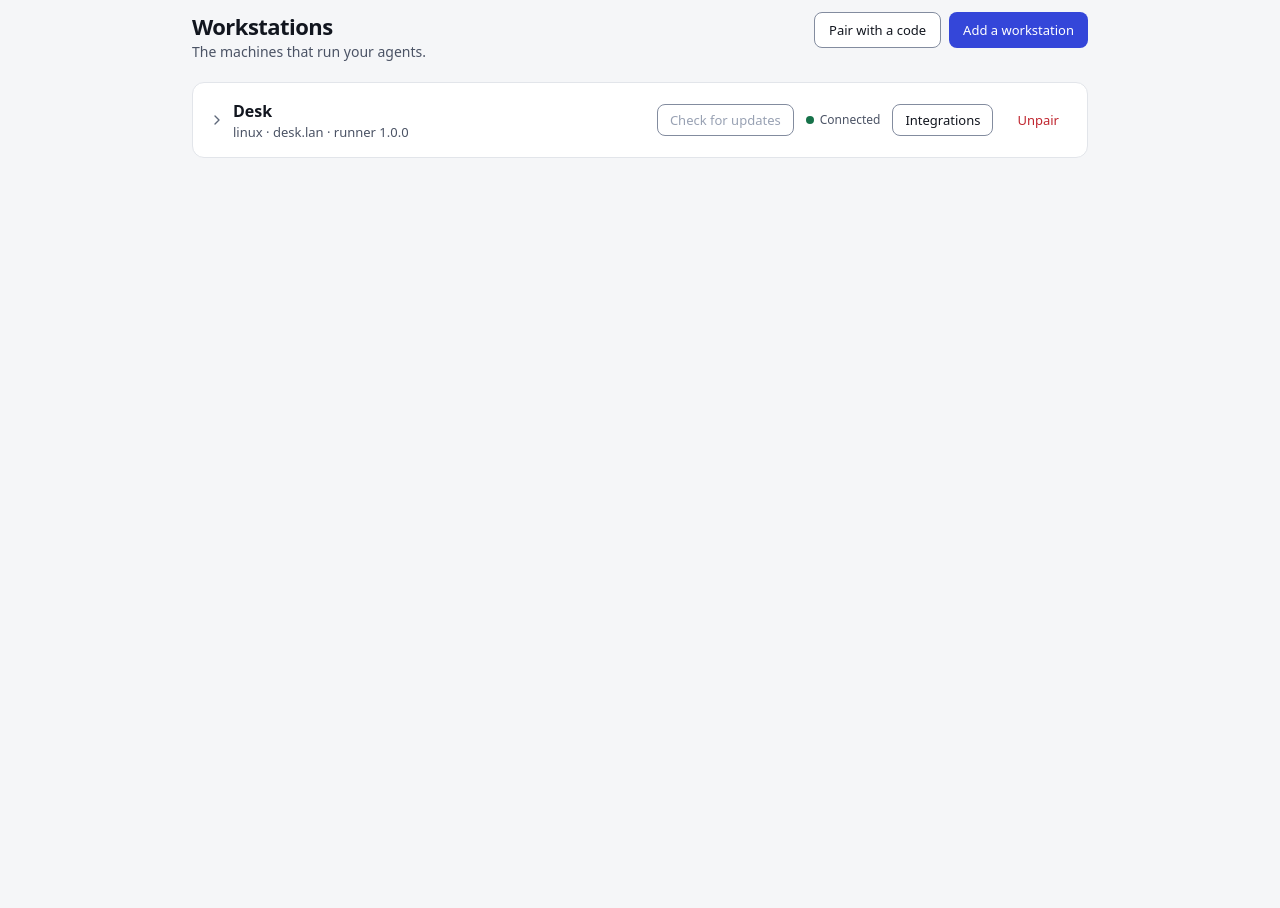
Test: Organisation source folder row › shows why a folder is invalid and why the workstation refused a path
Click the button with aria-label "Show details of Desk": [253, 111] box [205,95,653,145]
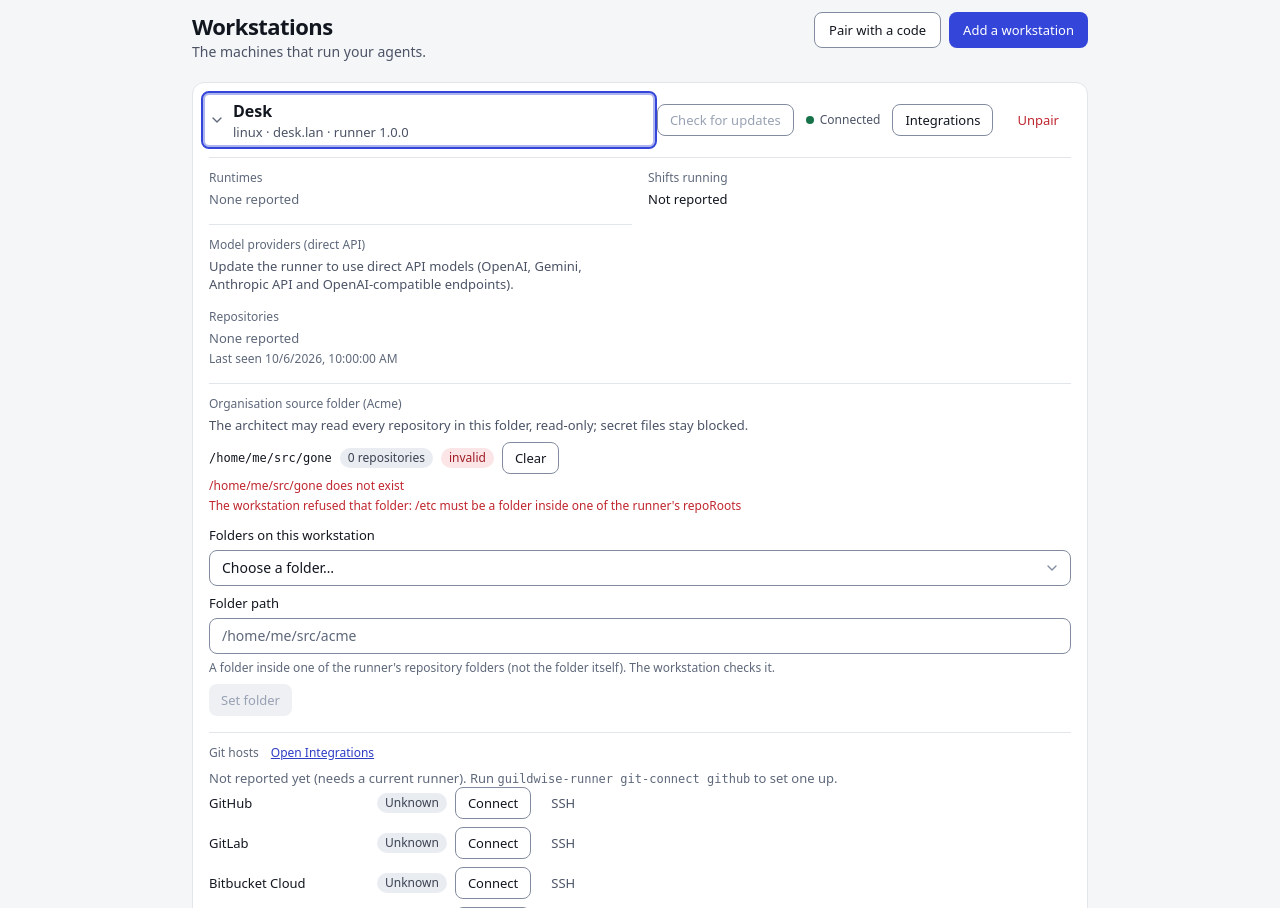
Expected: the text with test id "org-folder-status" reads "invalid", [449,449,486,466]
Expected: the message with test id "org-folder-reason" shows "does not exist", [209,477,404,494]
Expected: the message with test id "org-folder-refused" shows "repoRoots", [415,497,741,514]
